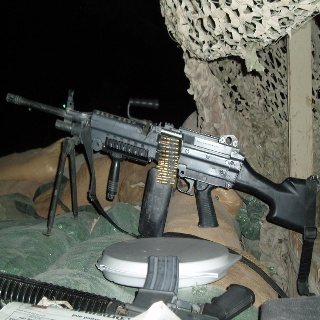rifle: (5, 87, 320, 239)
